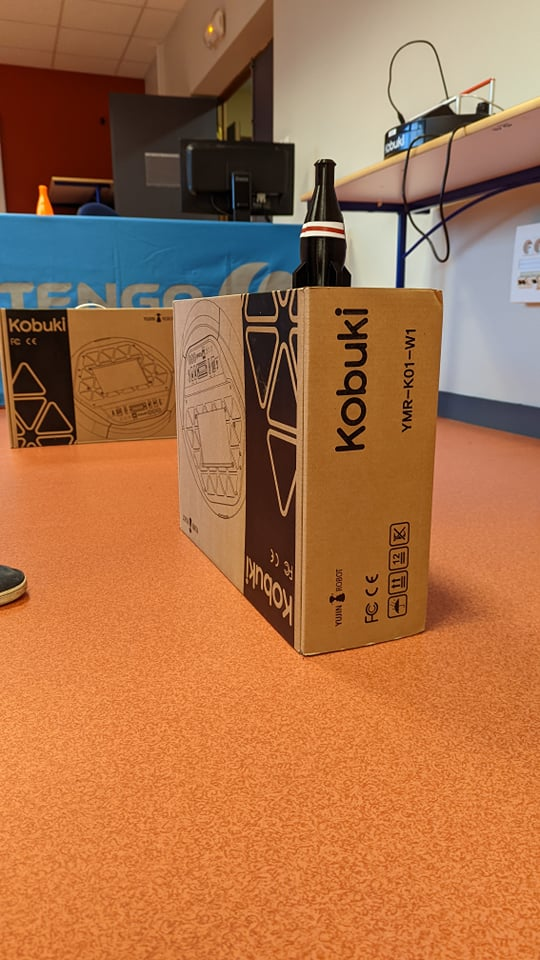bottle: (278, 157, 359, 295)
